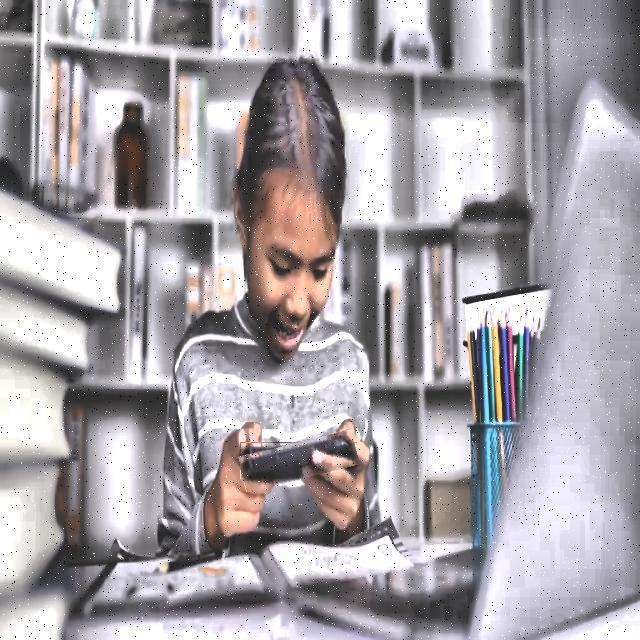Phone: (239, 435, 358, 486)
